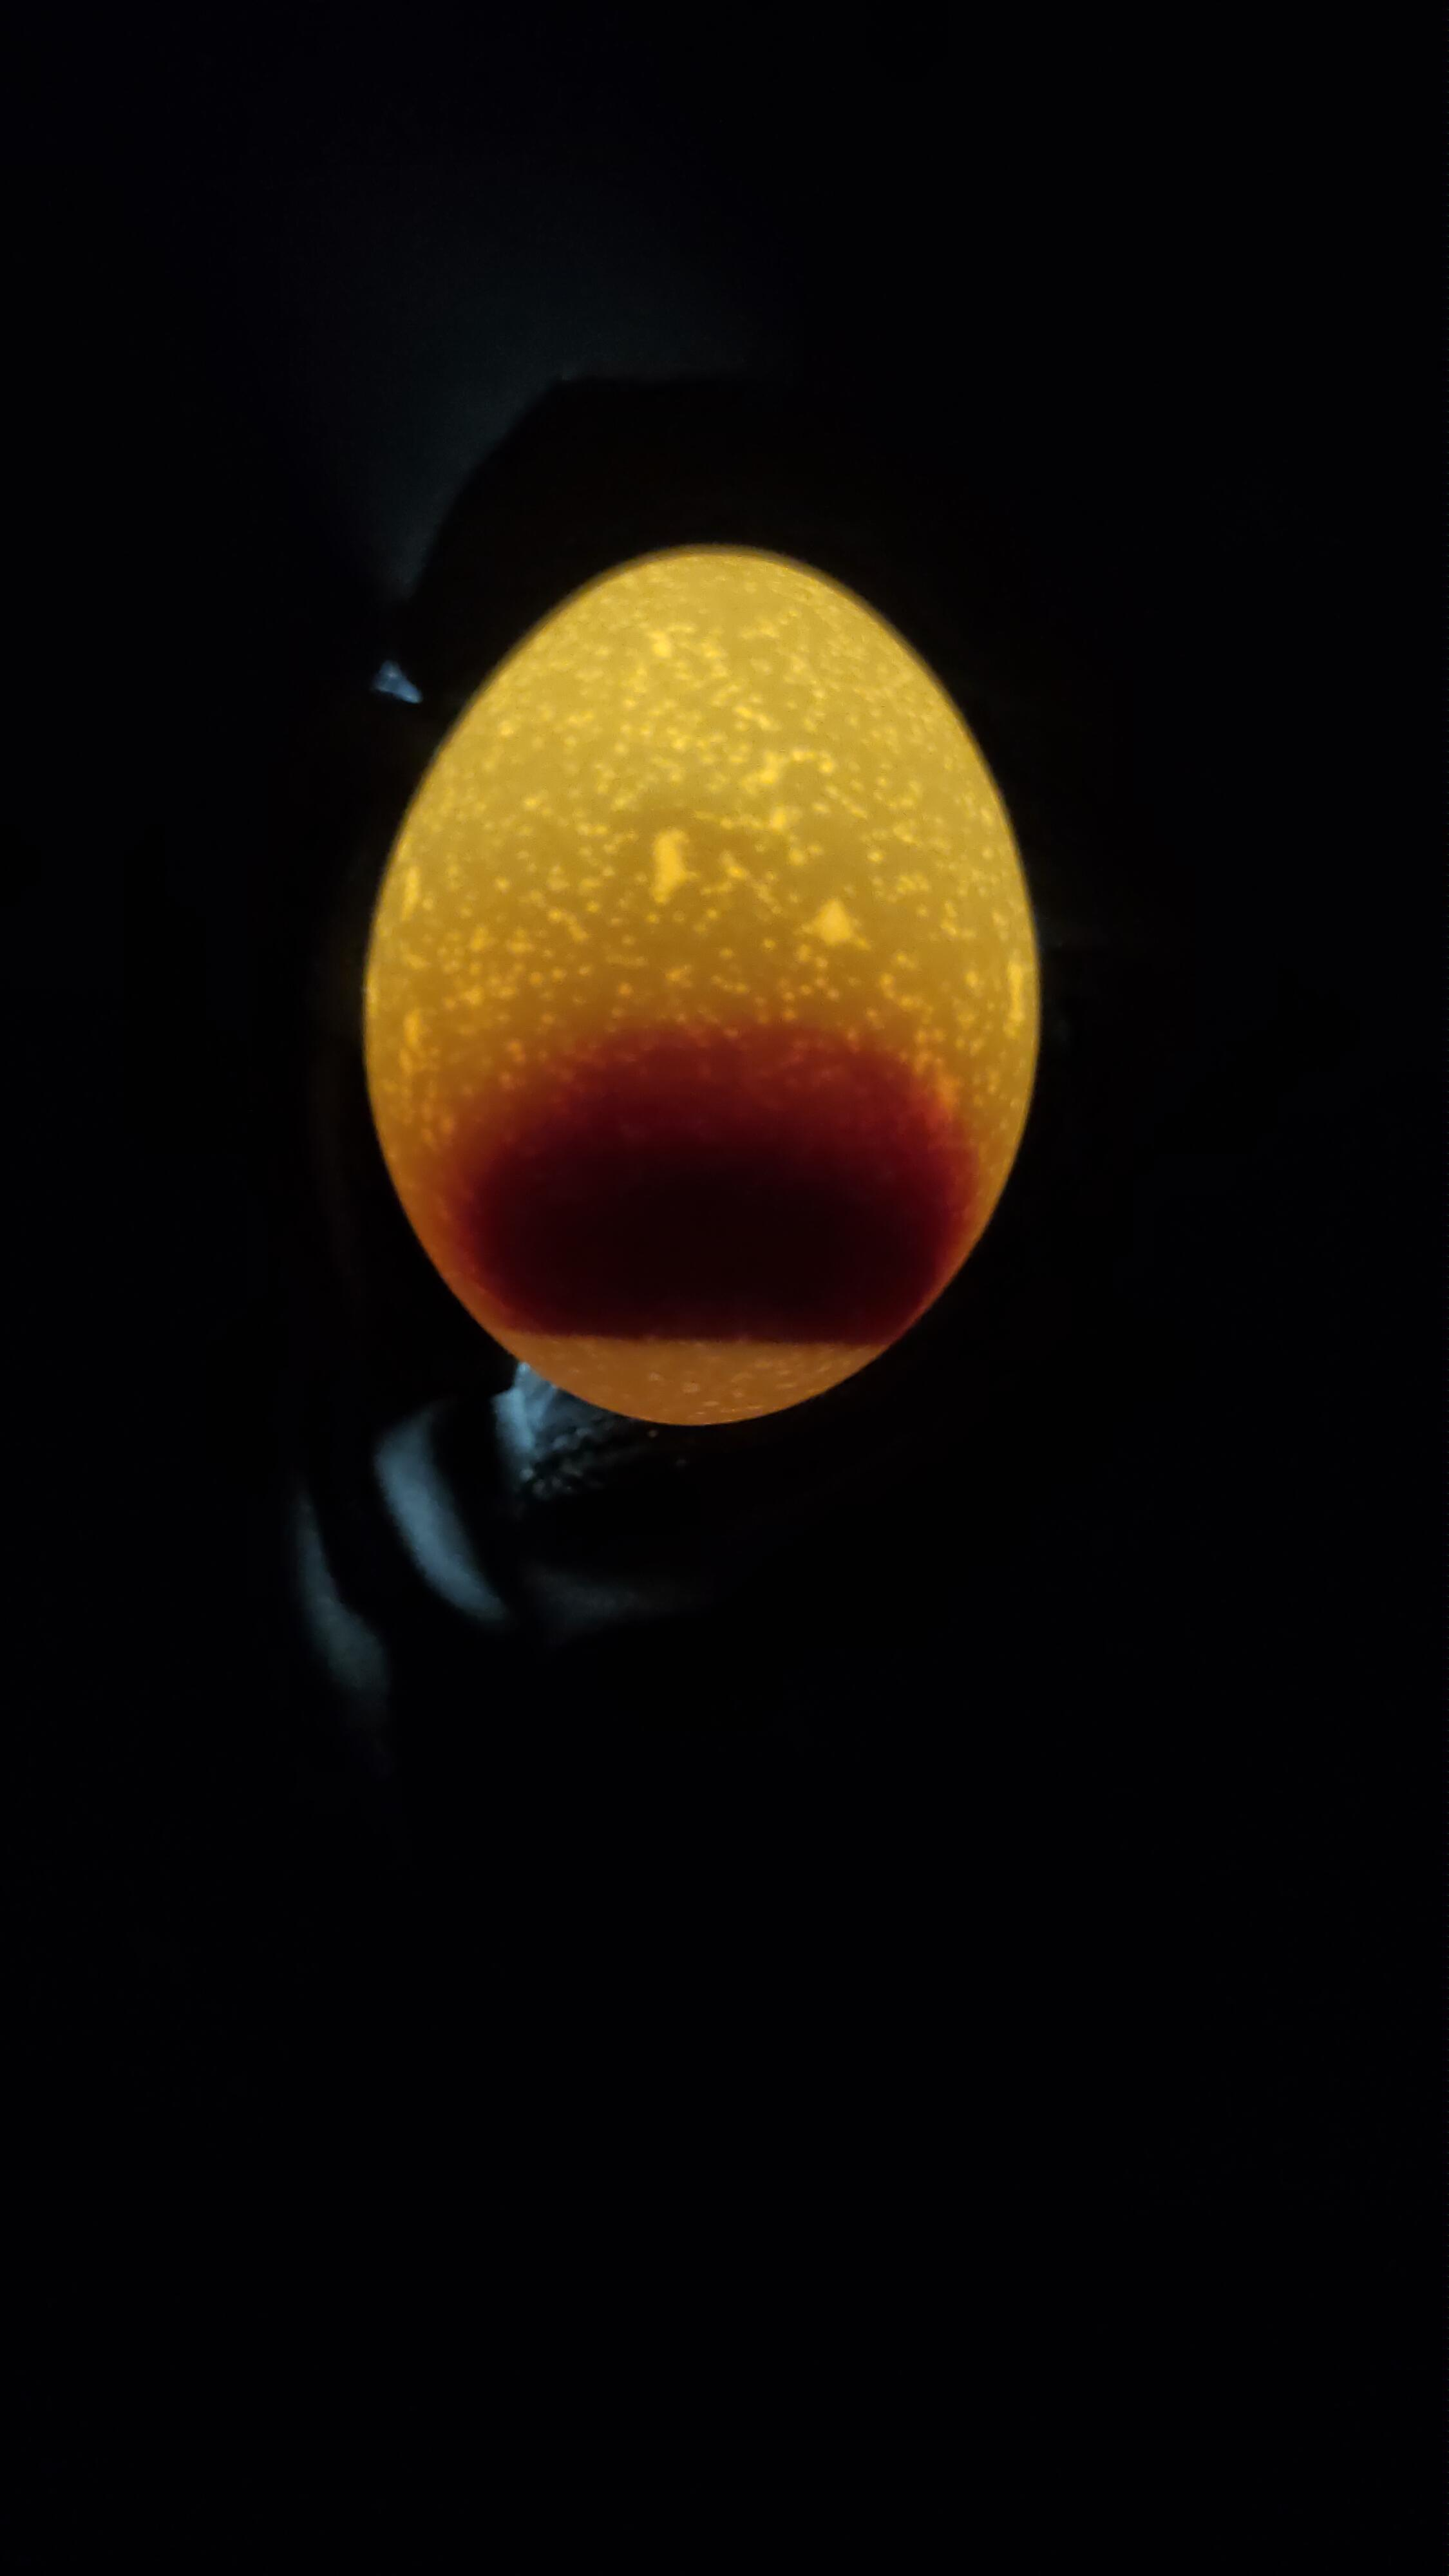AA - Premium: (322, 515, 1076, 1491)
